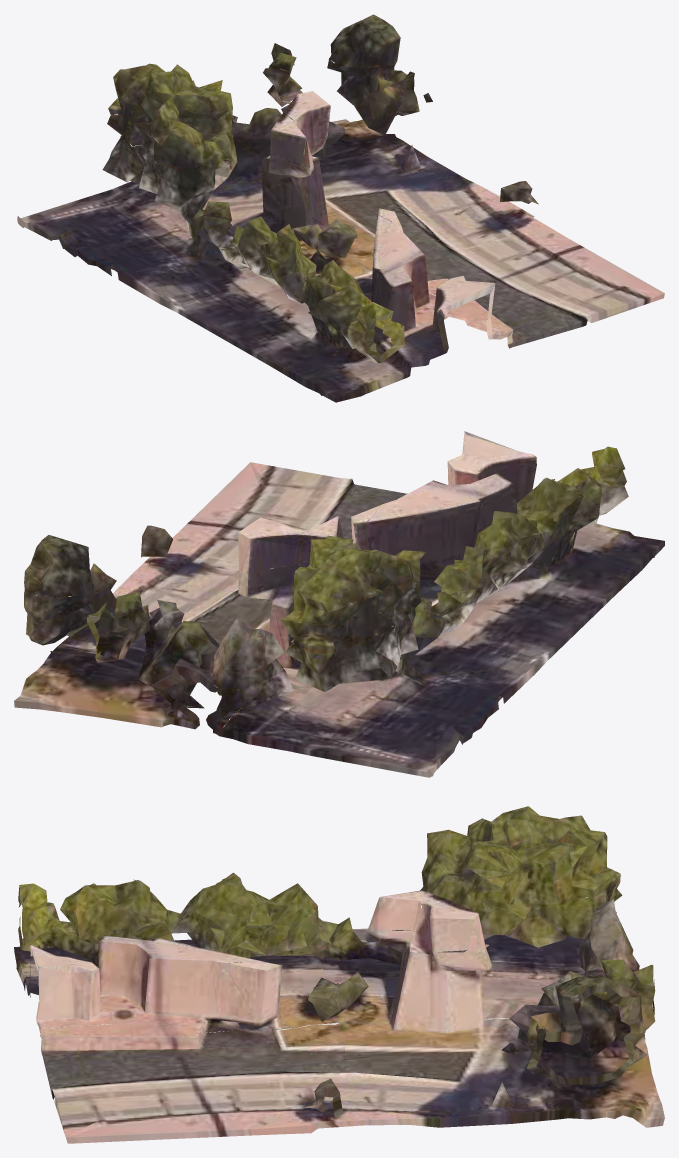
3 renders of one model, top to bottom at view 1: azimuth 30°, elevation 25°; view 2: azimuth 150°, elevation 25°; view 3: azimuth 270°, elevation 25°, orthographic. The views are drawn at different scales.
Parts seen in each view (by area): view 1: Mesh_0; view 2: Mesh_0; view 3: Mesh_0.
Part boxes in pixels (box(x1,y1,x2,y2)): Mesh_0: box(17, 14, 664, 402); Mesh_0: box(14, 431, 664, 777); Mesh_0: box(14, 806, 664, 1143).
Size of the model in its own units: 67.16 by 25.24 by 82.47.
Materials: 2 (2 with a texture image).
